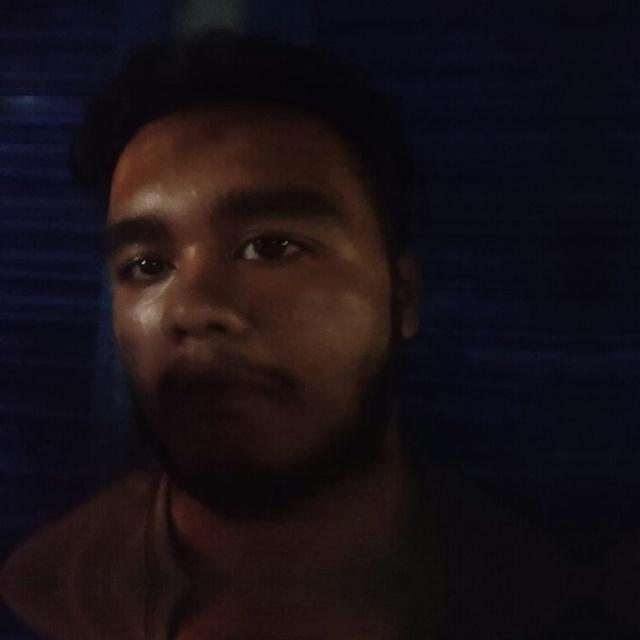Sad: (95, 89, 420, 526)
